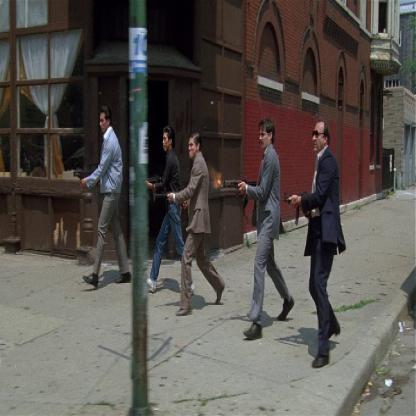Guns: (280, 188, 312, 226), (218, 176, 257, 205), (71, 162, 100, 187), (152, 188, 180, 207), (142, 171, 164, 188)
